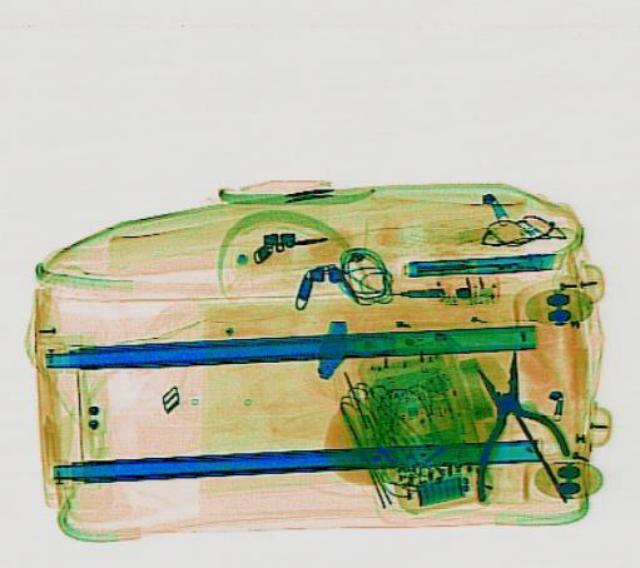Pliers: (442, 341, 576, 500)
